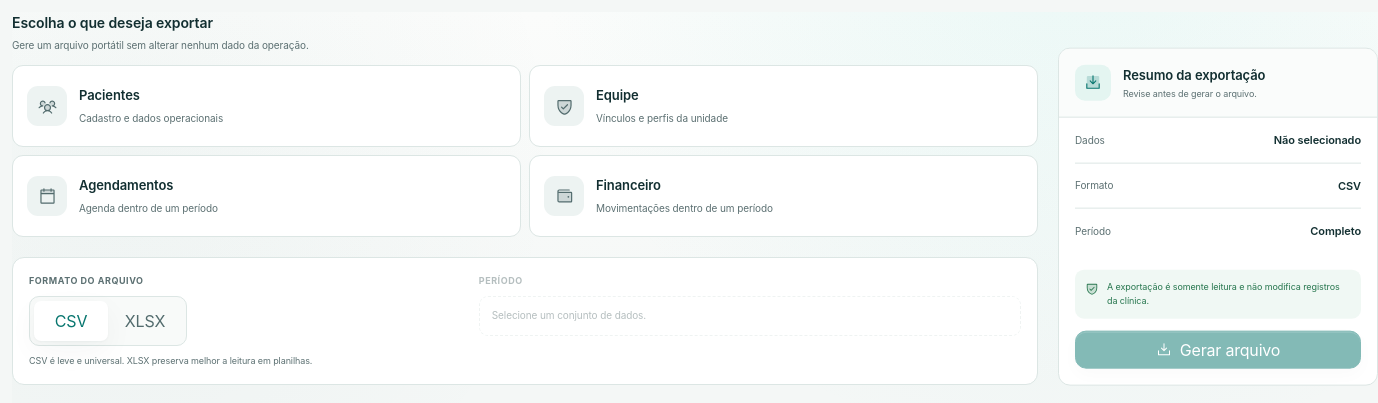
ExportarDados › mostra campos de período para financeiro
The image size is (1378, 403).
Click the radio button labelled "Financeiro Movimentações dentro de um período": (564, 196) 529,155 -> 1038,237
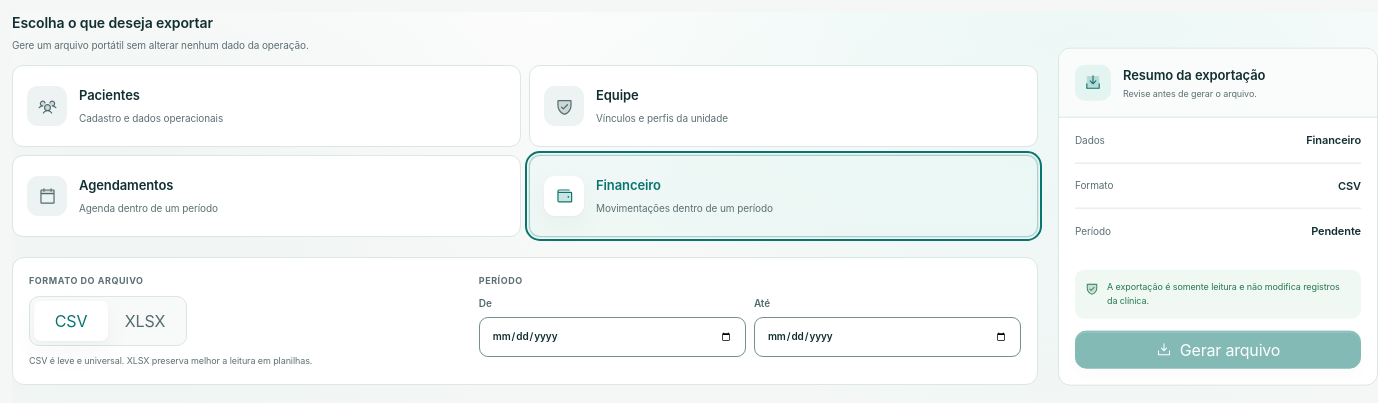
Now the date field labelled "De" is shown, box 479,317 -> 746,357
Now the date field labelled "Até" is shown, box 754,317 -> 1021,357
